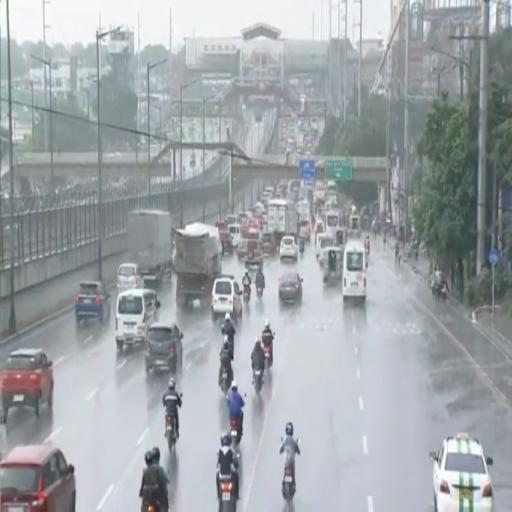car: (0, 444, 76, 511), (430, 434, 494, 511), (0, 348, 53, 417), (144, 323, 182, 374), (75, 281, 110, 326), (211, 275, 242, 318), (117, 263, 145, 293), (279, 271, 302, 303), (245, 239, 263, 268), (280, 236, 298, 261), (219, 230, 233, 254), (261, 232, 277, 253), (237, 239, 247, 261)
motorcycle: (282, 453, 296, 507), (219, 477, 236, 511), (165, 413, 177, 452), (262, 334, 272, 370), (230, 418, 241, 449), (220, 367, 231, 394), (253, 367, 263, 393), (433, 283, 447, 301), (224, 335, 233, 360), (264, 344, 272, 371), (243, 285, 250, 302), (256, 285, 263, 299), (300, 238, 305, 254), (147, 505, 158, 511)
truck: (174, 222, 222, 307), (127, 210, 173, 283), (267, 199, 297, 244), (314, 181, 326, 203)
